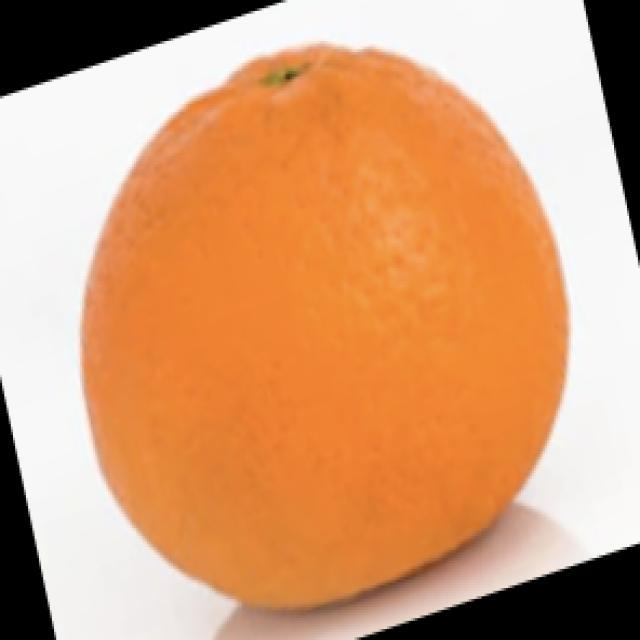matang: (82, 44, 567, 608)
